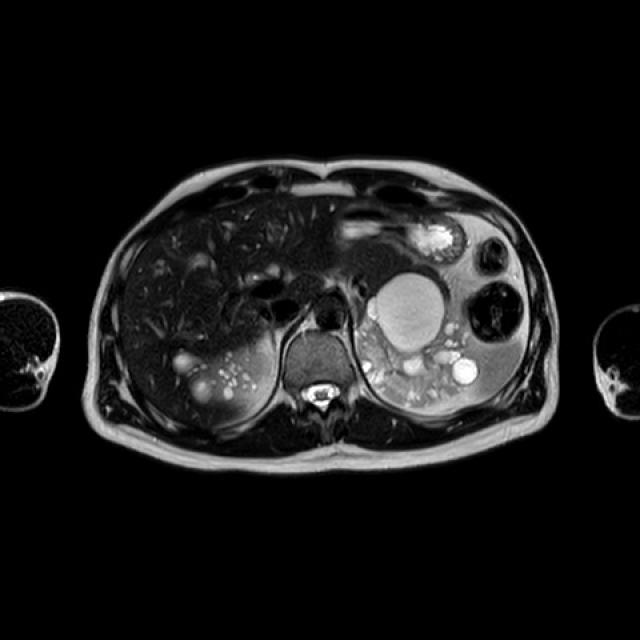sag: (171, 339, 277, 410)
sol: (355, 272, 481, 409)
